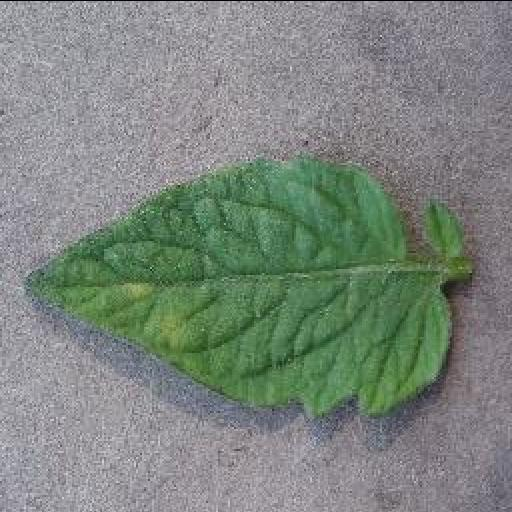disease_tomato: (22, 158, 456, 412)
